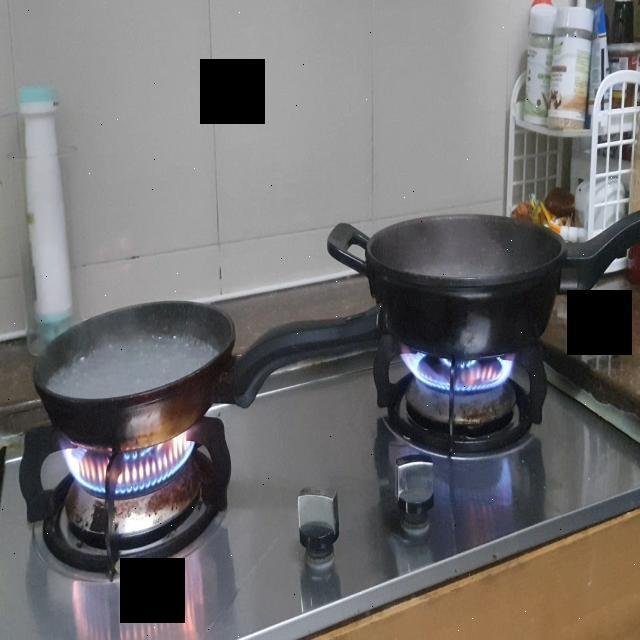Flame: (61, 446, 215, 499), (404, 349, 522, 393)
Pan: (329, 223, 580, 359), (15, 298, 242, 446)
